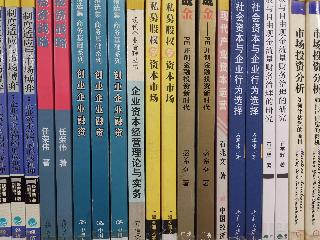book-spine: (193, 0, 218, 239), (33, 1, 57, 240), (69, 1, 92, 240), (105, 1, 128, 239), (87, 2, 110, 239), (4, 1, 26, 240), (225, 1, 247, 240), (242, 1, 263, 240), (52, 1, 73, 239), (20, 1, 40, 240), (126, 2, 146, 240), (176, 1, 196, 239), (143, 2, 162, 239), (213, 0, 231, 239), (160, 1, 178, 239), (289, 0, 306, 239), (273, 1, 289, 238), (304, 2, 320, 239), (262, 0, 276, 239)
